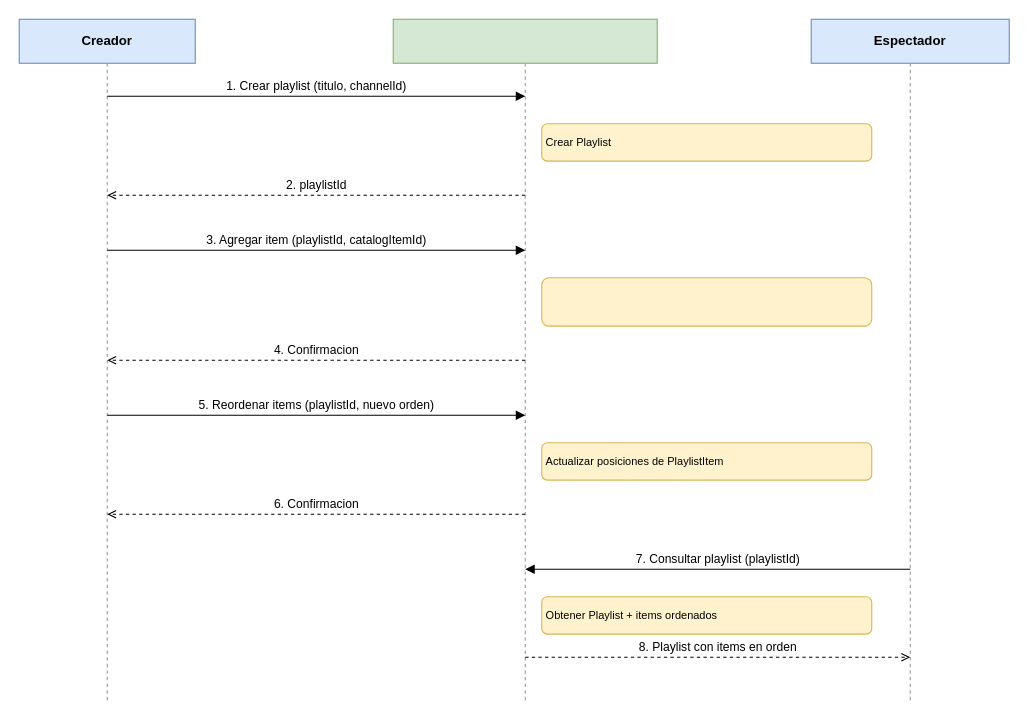
The diagram is 1029 pixels wide and 722 high, and some of its shapes have lost their labels. Each missing label, with the centre of its shape:
"API Catalogo (Playlists)" goes at [524,40].
"Validar que CatalogItem existe y crear PlaylistItem con posicion" goes at [706,301].
